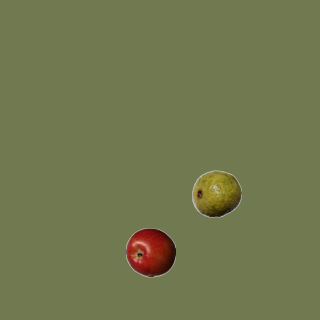Apple Braeburn: (125, 227, 175, 277)
Guava: (191, 168, 241, 218)
